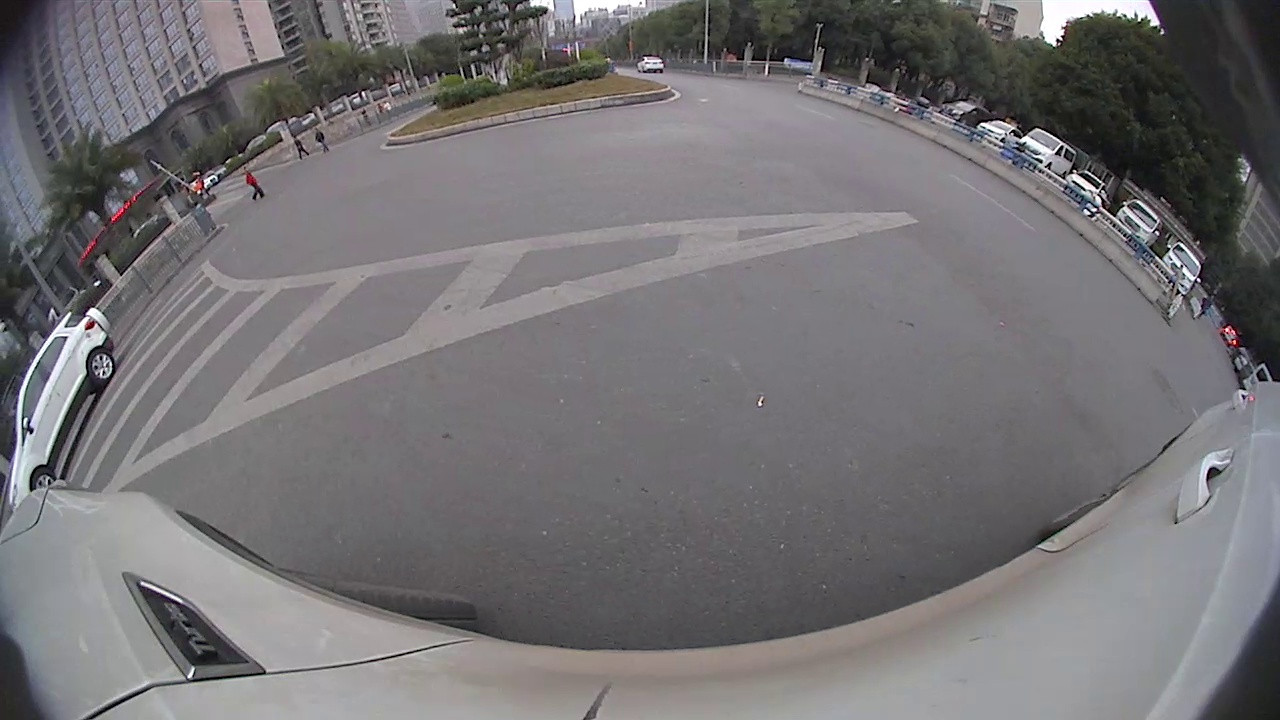car: (6, 305, 117, 516), (1014, 125, 1077, 178), (1155, 241, 1207, 298), (1114, 197, 1164, 251), (1059, 168, 1114, 208)
front: (31, 465, 58, 492)
rear: (85, 346, 117, 384)
